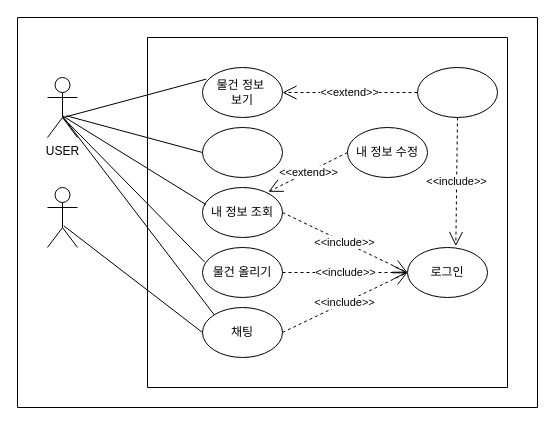
Image size: 555x425. Some labels were removed from this diagram. The centre of each missing label's shape, as x and y in pixels:
Another USER: point (62, 217)
물건 정보 수정: point (457, 92)
회원가입: point (242, 152)
